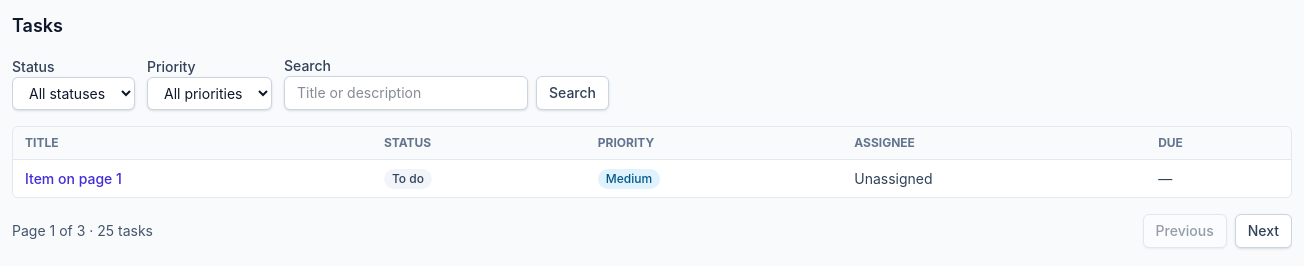
TaskList data › pages forwards and backwards
expect the link "Item on page 1" is shown: met, box x1=25 y1=170 x2=122 y2=186
expect the text "Page 1 of 3 · 25 tasks" is shown: met, box x1=12 y1=221 x2=153 y2=241
Click the button "Next" at point(1263, 231), box x1=1235 y1=214 x2=1292 y2=248
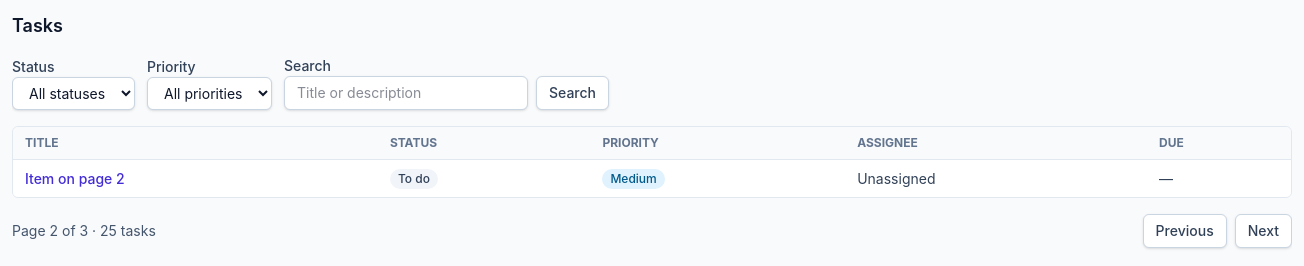
expect the link "Item on page 2" is shown: met, box x1=25 y1=170 x2=125 y2=186
Click the button "Next" at point(1263, 231), box x1=1235 y1=214 x2=1292 y2=248
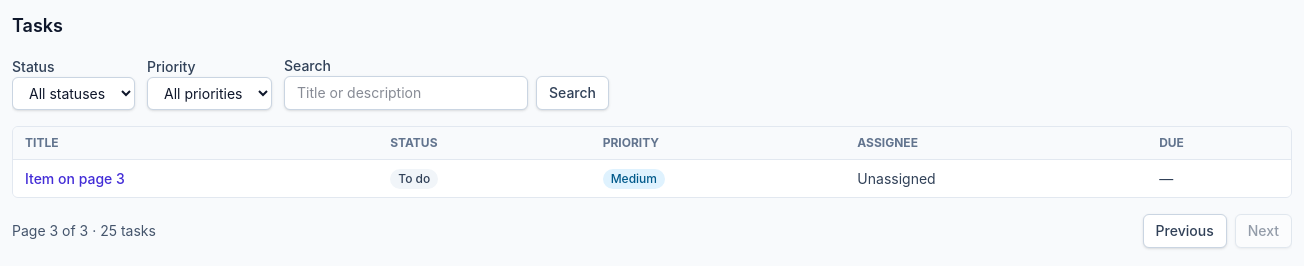
expect the link "Item on page 3" is shown: met, box x1=25 y1=170 x2=125 y2=186
expect the button "Next" is disabled: met, box x1=1235 y1=214 x2=1292 y2=248
Click the button "Previous" at point(1185, 231), box x1=1143 y1=214 x2=1227 y2=248
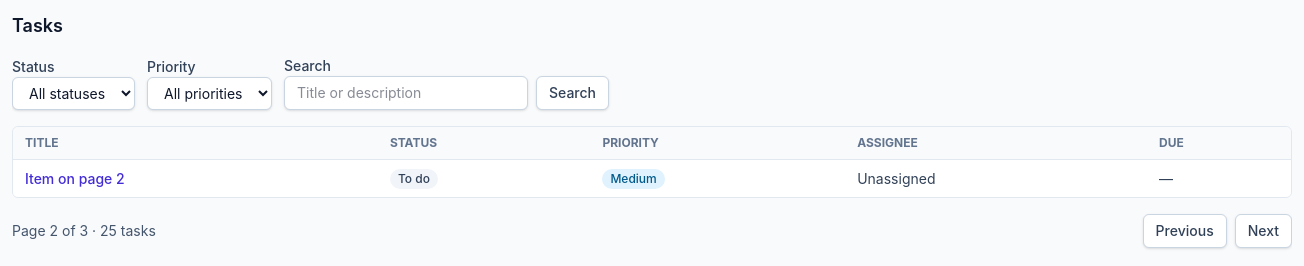
expect the link "Item on page 2" is shown: met, box x1=25 y1=170 x2=125 y2=186
